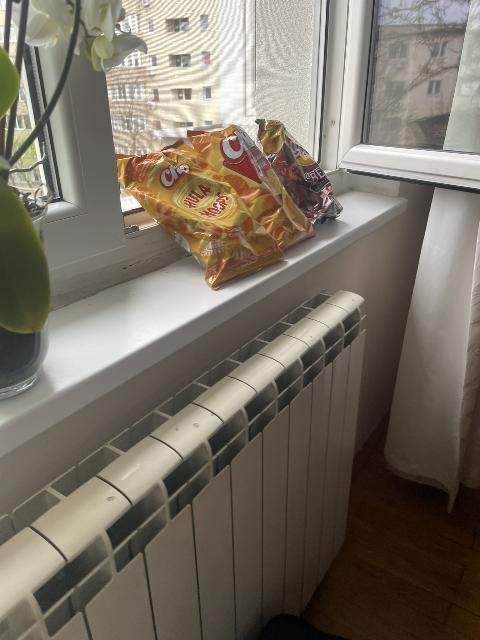Chio Cascaval 125g: (185, 122, 319, 253)
Chio Hula Hoops Cheese 70g: (110, 137, 284, 292)
Lays Beef Grilled Ribs 125g: (253, 118, 337, 227)
